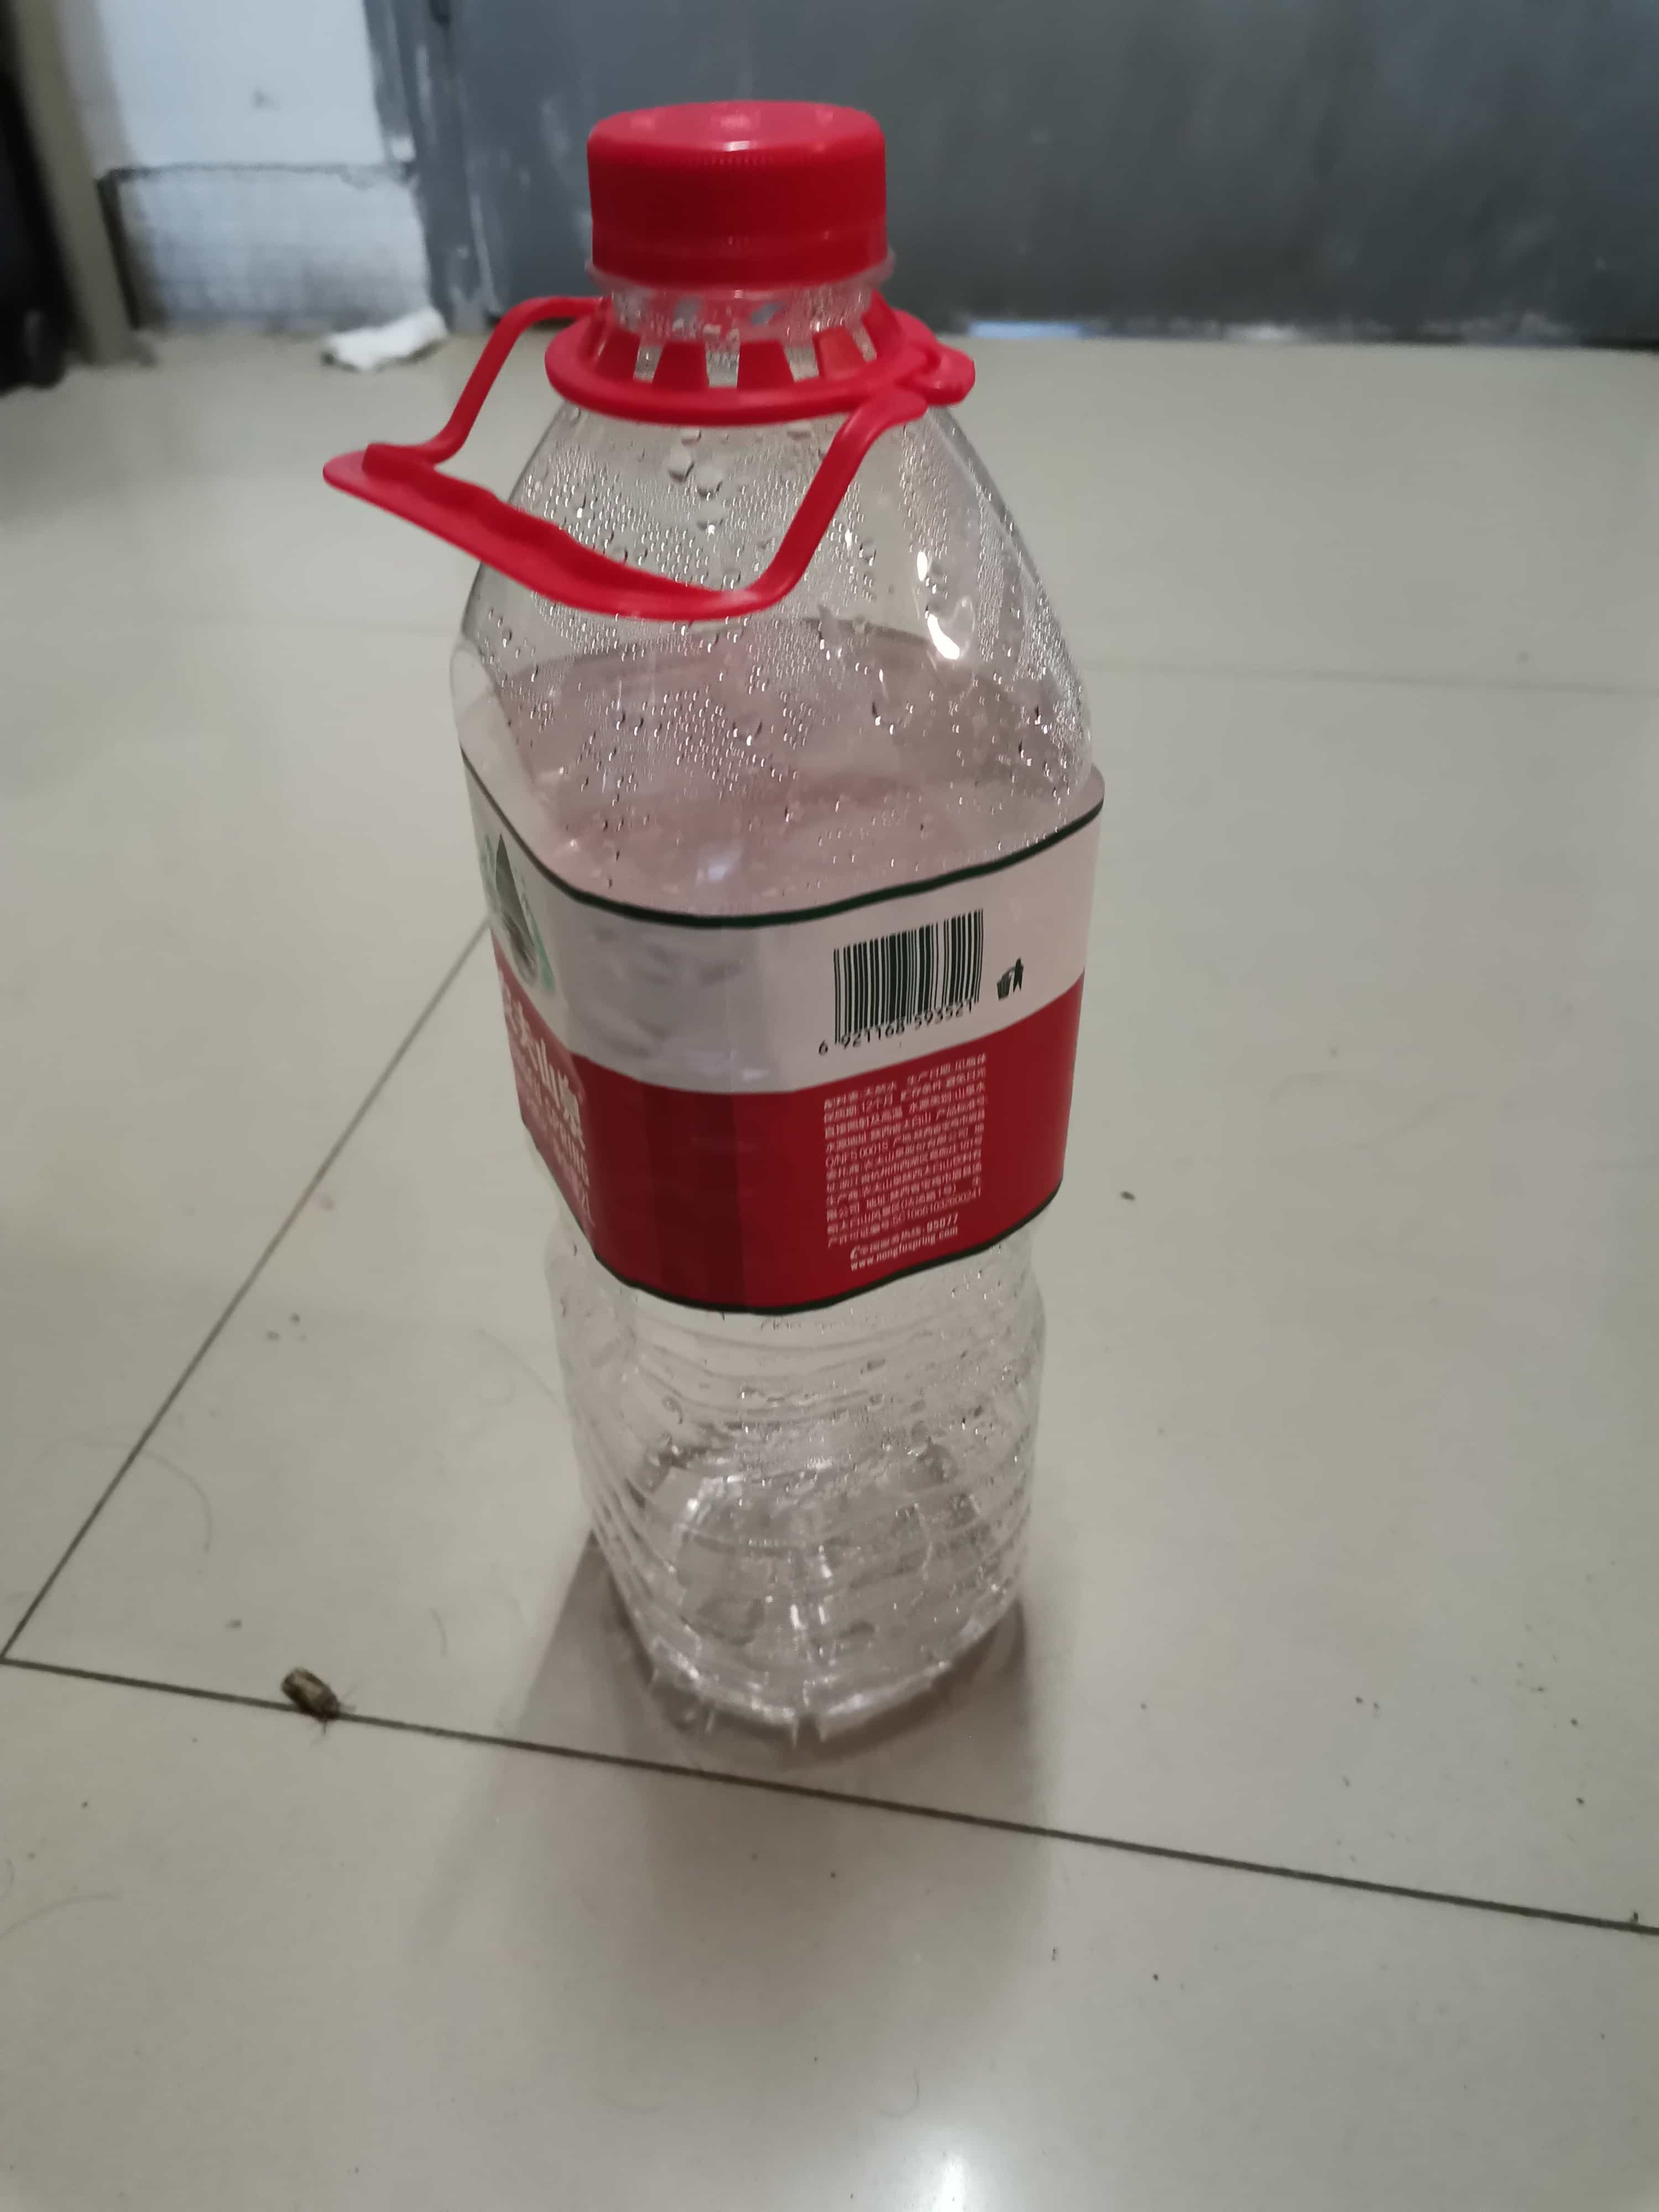plastic_bottle: (286, 96, 1138, 1764)
